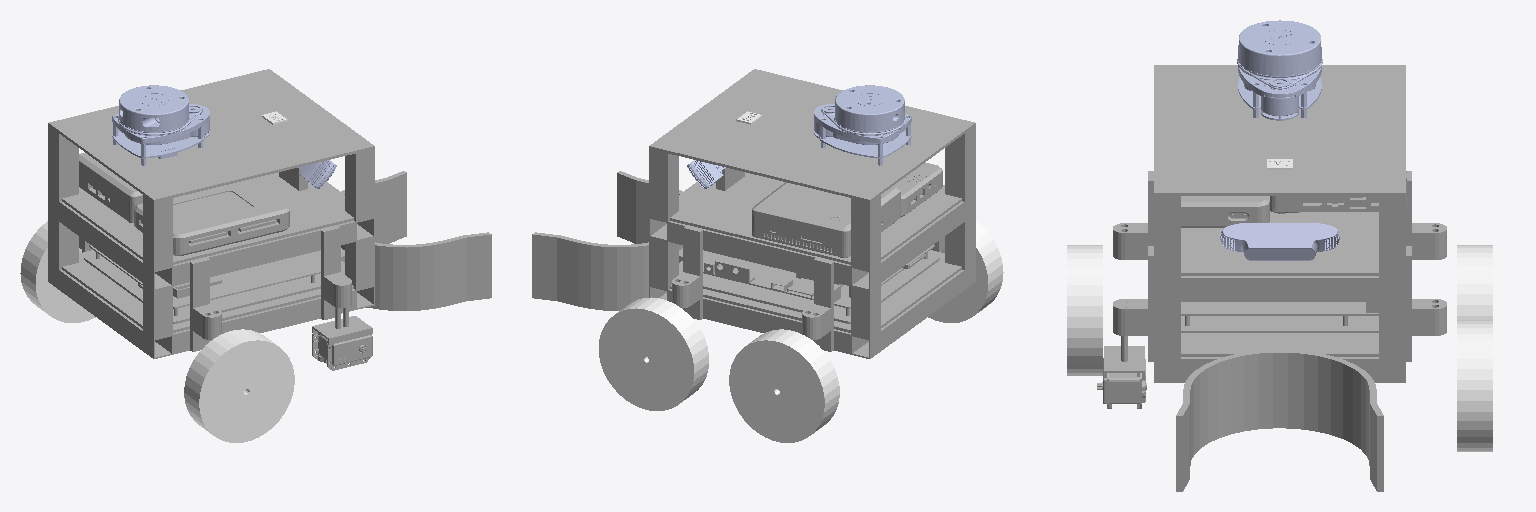
robot.urdf — lide:
<?xml version="1.0" encoding="utf-8"?>
<!-- This URDF was automatically created by SolidWorks to URDF Exporter! Originally created by [author] ([email redacted]) 
     Commit Version: 1.5.1-0-g916b5db  Build Version: 1.5.7152.31018
     For more information, please see http://wiki.ros.org/sw_urdf_exporter -->
<robot
  name="lide">
  <link
    name="base_link">
    <inertial>
      <origin
        xyz="-0.11434 0.002109 -0.080896"
        rpy="0 0 0" />
      <mass
        value="2.6044" />
      <inertia
        ixx="0.0048774"
        ixy="-4.1979E-07"
        ixz="9.09E-06"
        iyy="0.0056126"
        iyz="-3.2255E-07"
        izz="0.0098576" />
    </inertial>
    <visual>
      <origin
        xyz="0 0 0"
        rpy="0 0 0" />
      <geometry>
        <mesh
          filename="package://lide/meshes/base_link.STL" />
      </geometry>
      <material
        name="">
        <color
          rgba="0.75294 0.75294 0.75294 1" />
      </material>
    </visual>
    <collision>
      <origin
        xyz="0 0 0"
        rpy="0 0 0" />
      <geometry>
        <mesh
          filename="package://lide/meshes/base_link.STL" />
      </geometry>
    </collision>
  </link>
  <link
    name="LFS">
    <inertial>
      <origin
        xyz="0.045553 -0.06062 0.0031624"
        rpy="0 0 0" />
      <mass
        value="0.060681" />
      <inertia
        ixx="1.7187E-05"
        ixy="-1.6485E-08"
        ixz="-1.5645E-07"
        iyy="1.5791E-05"
        iyz="2.9641E-09"
        izz="1.3493E-05" />
    </inertial>
    <visual>
      <origin
        xyz="0 0 0"
        rpy="0 0 0" />
      <geometry>
        <mesh
          filename="package://lide/meshes/LFS.STL" />
      </geometry>
      <material
        name="">
        <color
          rgba="0.75294 0.75294 0.75294 1" />
      </material>
    </visual>
    <collision>
      <origin
        xyz="0 0 0"
        rpy="0 0 0" />
      <geometry>
        <mesh
          filename="package://lide/meshes/LFS.STL" />
      </geometry>
    </collision>
  </link>
  <joint
    name="LFS"
    type="prismatic">
    <origin
      xyz="-0.042044 0.084395 -0.10849"
      rpy="1.5708 0 1.5708" />
    <parent
      link="base_link" />
    <child
      link="LFS" />
    <axis
      xyz="0 1 0" />
    <limit
      lower="0"
      upper="0"
      effort="0"
      velocity="0" />
  </joint>
  <link
    name="LFW">
    <inertial>
      <origin
        xyz="0.015 4.1633E-17 -1.3531E-16"
        rpy="0 0 0" />
      <mass
        value="0.28979" />
      <inertia
        ixx="0.00043983"
        ixy="-2.5579E-19"
        ixz="-2.8502E-19"
        iyy="0.00024165"
        iyz="-6.7763E-21"
        izz="0.00024165" />
    </inertial>
    <visual>
      <origin
        xyz="0 0 0"
        rpy="0 0 0" />
      <geometry>
        <mesh
          filename="package://lide/meshes/LFW.STL" />
      </geometry>
      <material
        name="">
        <color
          rgba="1 1 1 1" />
      </material>
    </visual>
    <collision>
      <origin
        xyz="0 0 0"
        rpy="0 0 0" />
      <geometry>
        <mesh
          filename="package://lide/meshes/LFW.STL" />
      </geometry>
    </collision>
  </link>
  <joint
    name="LFW"
    type="continuous">
    <origin
      xyz="0.063346 -0.069801 0.015044"
      rpy="0.62095 0 0" />
    <parent
      link="LFS" />
    <child
      link="LFW" />
    <axis
      xyz="1 0 0" />
  </joint>
  <link
    name="RFS">
    <inertial>
      <origin
        xyz="-0.019176 -0.060658 0.052192"
        rpy="0 0 0" />
      <mass
        value="0.060681" />
      <inertia
        ixx="1.7187E-05"
        ixy="-1.6485E-08"
        ixz="1.5645E-07"
        iyy="1.5791E-05"
        iyz="-2.9641E-09"
        izz="1.3493E-05" />
    </inertial>
    <visual>
      <origin
        xyz="0 0 0"
        rpy="0 0 0" />
      <geometry>
        <mesh
          filename="package://lide/meshes/RFS.STL" />
      </geometry>
      <material
        name="">
        <color
          rgba="0.75294 0.75294 0.75294 1" />
      </material>
    </visual>
    <collision>
      <origin
        xyz="0 0 0"
        rpy="0 0 0" />
      <geometry>
        <mesh
          filename="package://lide/meshes/RFS.STL" />
      </geometry>
    </collision>
  </link>
  <joint
    name="RFS"
    type="prismatic">
    <origin
      xyz="-0.091073 -0.11079 -0.10849"
      rpy="1.5708 0 1.5708" />
    <parent
      link="base_link" />
    <child
      link="RFS" />
    <axis
      xyz="0 1 0" />
    <limit
      lower="0"
      upper="0"
      effort="0"
      velocity="0" />
  </joint>
  <link
    name="RFW">
    <inertial>
      <origin
        xyz="-0.015 0 0"
        rpy="0 0 0" />
      <mass
        value="0.28979" />
      <inertia
        ixx="0.00043983"
        ixy="-4.6524E-37"
        ixz="1.7402E-39"
        iyy="0.00024165"
        iyz="3.024E-39"
        izz="0.00024165" />
    </inertial>
    <visual>
      <origin
        xyz="0 0 0"
        rpy="0 0 0" />
      <geometry>
        <mesh
          filename="package://lide/meshes/RFW.STL" />
      </geometry>
      <material
        name="">
        <color
          rgba="1 1 1 1" />
      </material>
    </visual>
    <collision>
      <origin
        xyz="0 0 0"
        rpy="0 0 0" />
      <geometry>
        <mesh
          filename="package://lide/meshes/RFW.STL" />
      </geometry>
    </collision>
  </link>
  <joint
    name="RFW"
    type="continuous">
    <origin
      xyz="-0.036969 -0.069799 0.064073"
      rpy="0 0 0" />
    <parent
      link="RFS" />
    <child
      link="RFW" />
    <axis
      xyz="1 0 0" />
  </joint>
  <link
    name="LBS">
    <inertial>
      <origin
        xyz="0.045553 -0.06062 0.0031624"
        rpy="0 0 0" />
      <mass
        value="0.060681" />
      <inertia
        ixx="1.7187E-05"
        ixy="-1.6485E-08"
        ixz="-1.5645E-07"
        iyy="1.5791E-05"
        iyz="2.9641E-09"
        izz="1.3493E-05" />
    </inertial>
    <visual>
      <origin
        xyz="0 0 0"
        rpy="0 0 0" />
      <geometry>
        <mesh
          filename="package://lide/meshes/LBS.STL" />
      </geometry>
      <material
        name="">
        <color
          rgba="0.75294 0.75294 0.75294 1" />
      </material>
    </visual>
    <collision>
      <origin
        xyz="0 0 0"
        rpy="0 0 0" />
      <geometry>
        <mesh
          filename="package://lide/meshes/LBS.STL" />
      </geometry>
    </collision>
  </link>
  <joint
    name="LBS"
    type="prismatic">
    <origin
      xyz="-0.19204 0.084395 -0.10849"
      rpy="1.5708 0 1.5708" />
    <parent
      link="base_link" />
    <child
      link="LBS" />
    <axis
      xyz="0 1 0" />
    <limit
      lower="0"
      upper="0"
      effort="0"
      velocity="0" />
  </joint>
  <link
    name="LBW">
    <inertial>
      <origin
        xyz="0.015 -2.2204E-16 4.0246E-16"
        rpy="0 0 0" />
      <mass
        value="0.28979" />
      <inertia
        ixx="0.00043983"
        ixy="2.0223E-19"
        ixz="2.4641E-19"
        iyy="0.00024165"
        iyz="6.7763E-21"
        izz="0.00024165" />
    </inertial>
    <visual>
      <origin
        xyz="0 0 0"
        rpy="0 0 0" />
      <geometry>
        <mesh
          filename="package://lide/meshes/LBW.STL" />
      </geometry>
      <material
        name="">
        <color
          rgba="1 1 1 1" />
      </material>
    </visual>
    <collision>
      <origin
        xyz="0 0 0"
        rpy="0 0 0" />
      <geometry>
        <mesh
          filename="package://lide/meshes/LBW.STL" />
      </geometry>
    </collision>
  </link>
  <joint
    name="LBW"
    type="continuous">
    <origin
      xyz="0.063346 -0.069801 0.015044"
      rpy="0.80353 0 0" />
    <parent
      link="LBS" />
    <child
      link="LBW" />
    <axis
      xyz="1 0 0" />
  </joint>
  <link
    name="RBS">
    <inertial>
      <origin
        xyz="-0.019176 -0.060658 0.052192"
        rpy="0 0 0" />
      <mass
        value="0.060681" />
      <inertia
        ixx="1.7187E-05"
        ixy="-1.6485E-08"
        ixz="1.5645E-07"
        iyy="1.5791E-05"
        iyz="-2.9641E-09"
        izz="1.3493E-05" />
    </inertial>
    <visual>
      <origin
        xyz="0 0 0"
        rpy="0 0 0" />
      <geometry>
        <mesh
          filename="package://lide/meshes/RBS.STL" />
      </geometry>
      <material
        name="">
        <color
          rgba="0.75294 0.75294 0.75294 1" />
      </material>
    </visual>
    <collision>
      <origin
        xyz="0 0 0"
        rpy="0 0 0" />
      <geometry>
        <mesh
          filename="package://lide/meshes/RBS.STL" />
      </geometry>
    </collision>
  </link>
  <joint
    name="RBS"
    type="prismatic">
    <origin
      xyz="-0.24107 -0.11079 -0.10849"
      rpy="1.5708 0 1.5708" />
    <parent
      link="base_link" />
    <child
      link="RBS" />
    <axis
      xyz="0 1 0" />
    <limit
      lower="0"
      upper="0"
      effort="0"
      velocity="0" />
  </joint>
  <link
    name="RBW">
    <inertial>
      <origin
        xyz="-0.015 0 2.7756E-17"
        rpy="0 0 0" />
      <mass
        value="0.28979" />
      <inertia
        ixx="0.00043983"
        ixy="-1.8852E-37"
        ixz="3.2691E-37"
        iyy="0.00024165"
        iyz="-1.9835E-37"
        izz="0.00024165" />
    </inertial>
    <visual>
      <origin
        xyz="0 0 0"
        rpy="0 0 0" />
      <geometry>
        <mesh
          filename="package://lide/meshes/RBW.STL" />
      </geometry>
      <material
        name="">
        <color
          rgba="1 1 1 1" />
      </material>
    </visual>
    <collision>
      <origin
        xyz="0 0 0"
        rpy="0 0 0" />
      <geometry>
        <mesh
          filename="package://lide/meshes/RBW.STL" />
      </geometry>
    </collision>
  </link>
  <joint
    name="RBW"
    type="continuous">
    <origin
      xyz="-0.036969 -0.069799 0.064073"
      rpy="0 0 0" />
    <parent
      link="RBS" />
    <child
      link="RBW" />
    <axis
      xyz="1 0 0" />
  </joint>
  <link
    name="fcam">
    <inertial>
      <origin
        xyz="0.00044553 -1.1063E-05 0.0012982"
        rpy="0 0 0" />
      <mass
        value="0.043612" />
      <inertia
        ixx="2.3571E-05"
        ixy="-1.0181E-09"
        ixz="2.1758E-08"
        iyy="4.2948E-06"
        iyz="-8.8579E-10"
        izz="2.2106E-05" />
    </inertial>
    <visual>
      <origin
        xyz="0 0 0"
        rpy="0 0 0" />
      <geometry>
        <mesh
          filename="package://lide/meshes/fcam.STL" />
      </geometry>
      <material
        name="">
        <color
          rgba="0.79216 0.81961 0.93333 1" />
      </material>
    </visual>
    <collision>
      <origin
        xyz="0 0 0"
        rpy="0 0 0" />
      <geometry>
        <mesh
          filename="package://lide/meshes/fcam.STL" />
      </geometry>
    </collision>
  </link>
  <joint
    name="fcam"
    type="fixed">
    <origin
      xyz="0 0 0"
      rpy="0 0 0" />
    <parent
      link="base_link" />
    <child
      link="fcam" />
    <axis
      xyz="0 0 0" />
  </joint>
  <link
    name="bcam">
    <inertial>
      <origin
        xyz="0.00044553 -1.1063E-05 0.0012982"
        rpy="0 0 0" />
      <mass
        value="0.043612" />
      <inertia
        ixx="2.3571E-05"
        ixy="-1.0183E-09"
        ixz="2.1758E-08"
        iyy="4.2948E-06"
        iyz="-8.8548E-10"
        izz="2.2106E-05" />
    </inertial>
    <visual>
      <origin
        xyz="0 0 0"
        rpy="0 0 0" />
      <geometry>
        <mesh
          filename="package://lide/meshes/bcam.STL" />
      </geometry>
      <material
        name="">
        <color
          rgba="0.79216 0.81961 0.93333 1" />
      </material>
    </visual>
    <collision>
      <origin
        xyz="0 0 0"
        rpy="0 0 0" />
      <geometry>
        <mesh
          filename="package://lide/meshes/bcam.STL" />
      </geometry>
    </collision>
  </link>
  <joint
    name="bcam"
    type="fixed">
    <origin
      xyz="-0.008581 0 -0.03528"
      rpy="0 0.7854 0" />
    <parent
      link="base_link" />
    <child
      link="bcam" />
    <axis
      xyz="0 0 0" />
  </joint>
  <link
    name="Lidar">
    <inertial>
      <origin
        xyz="0.013523 0.00046196 -0.028765"
        rpy="0 0 0" />
      <mass
        value="0.073085" />
      <inertia
        ixx="1.9581E-05"
        ixy="-1.0393E-07"
        ixz="-4.2839E-07"
        iyy="2.4125E-05"
        iyz="9.4271E-09"
        izz="4.1418E-05" />
    </inertial>
    <visual>
      <origin
        xyz="0 0 0"
        rpy="0 0 0" />
      <geometry>
        <mesh
          filename="package://lide/meshes/Lidar.STL" />
      </geometry>
      <material
        name="">
        <color
          rgba="0.79216 0.81961 0.93333 1" />
      </material>
    </visual>
    <collision>
      <origin
        xyz="0 0 0"
        rpy="0 0 0" />
      <geometry>
        <mesh
          filename="package://lide/meshes/Lidar.STL" />
      </geometry>
    </collision>
  </link>
  <joint
    name="Lidar"
    type="fixed">
    <origin
      xyz="-0.18258 -0.0010025 0.071508"
      rpy="0 0 0" />
    <parent
      link="base_link" />
    <child
      link="Lidar" />
    <axis
      xyz="0 0 0" />
  </joint>
  <link
    name="imu_link">
    <inertial>
      <origin
        xyz="0 0 0"
        rpy="0 0 0" />
      <mass
        value="0" />
      <inertia
        ixx="0"
        ixy="0"
        ixz="0"
        iyy="0"
        iyz="0"
        izz="0" />
    </inertial>
    <visual>
      <origin
        xyz="0 0 0"
        rpy="0 0 0" />
      <geometry>
        <mesh
          filename="package://lide/meshes/imu_link.STL" />
      </geometry>
      <material
        name="">
        <color
          rgba="1 1 1 1" />
      </material>
    </visual>
    <collision>
      <origin
        xyz="0 0 0"
        rpy="0 0 0" />
      <geometry>
        <mesh
          filename="package://lide/meshes/imu_link.STL" />
      </geometry>
    </collision>
  </link>
  <joint
    name="imu_link"
    type="fixed">
    <origin
      xyz="-0.034199 -0.011008 0.018008"
      rpy="0 0 1.5708" />
    <parent
      link="base_link" />
    <child
      link="imu_link" />
    <axis
      xyz="0 0 0" />
  </joint>
</robot>

--- Facts derived from the render (not from the file) ---
The picture shows the robot from 3 angles, left to right: view 1: azimuth 30°, elevation 25°; view 2: azimuth 150°, elevation 25°; view 3: azimuth 270°, elevation 25°; orthographic projection.
Robot: lide — 13 links, 12 joints (4 continuous, 4 prismatic, 4 fixed); root link base_link; default pose: every joint at zero.
Links seen in each view (by area): view 1: base_link, RBW, Lidar, LBW, RFS, bcam; view 2: base_link, LBW, LFW, Lidar, RBW, bcam; view 3: base_link, Lidar, LFW, RBW, bcam, LBW, RFS.
Boxes of the visible links, bbox=[...] form: base_link: bbox=[48, 69, 491, 358]; RBW: bbox=[184, 329, 294, 442]; Lidar: bbox=[112, 85, 209, 165]; LBW: bbox=[20, 221, 95, 322]; RFS: bbox=[312, 279, 372, 370]; bcam: bbox=[298, 160, 336, 188]; base_link: bbox=[532, 69, 975, 358]; LBW: bbox=[729, 329, 839, 442]; LFW: bbox=[599, 297, 708, 410]; Lidar: bbox=[814, 85, 911, 165]; RBW: bbox=[928, 221, 1003, 322]; bcam: bbox=[687, 160, 725, 188]; base_link: bbox=[1113, 65, 1446, 491]; Lidar: bbox=[1237, 20, 1322, 120]; LFW: bbox=[1457, 320, 1492, 451]; RBW: bbox=[1067, 245, 1102, 375]; bcam: bbox=[1220, 223, 1339, 260]; LBW: bbox=[1457, 245, 1492, 319]; RFS: bbox=[1097, 300, 1146, 408].
Size in the robot's own frame: 0.3983 by 0.3555 by 0.3048 metres.
Meshes: 13 distinct files referenced, 8 mesh visuals loaded (8 binary STL); not drawn: 5 (reference not matched to a file when rendering).